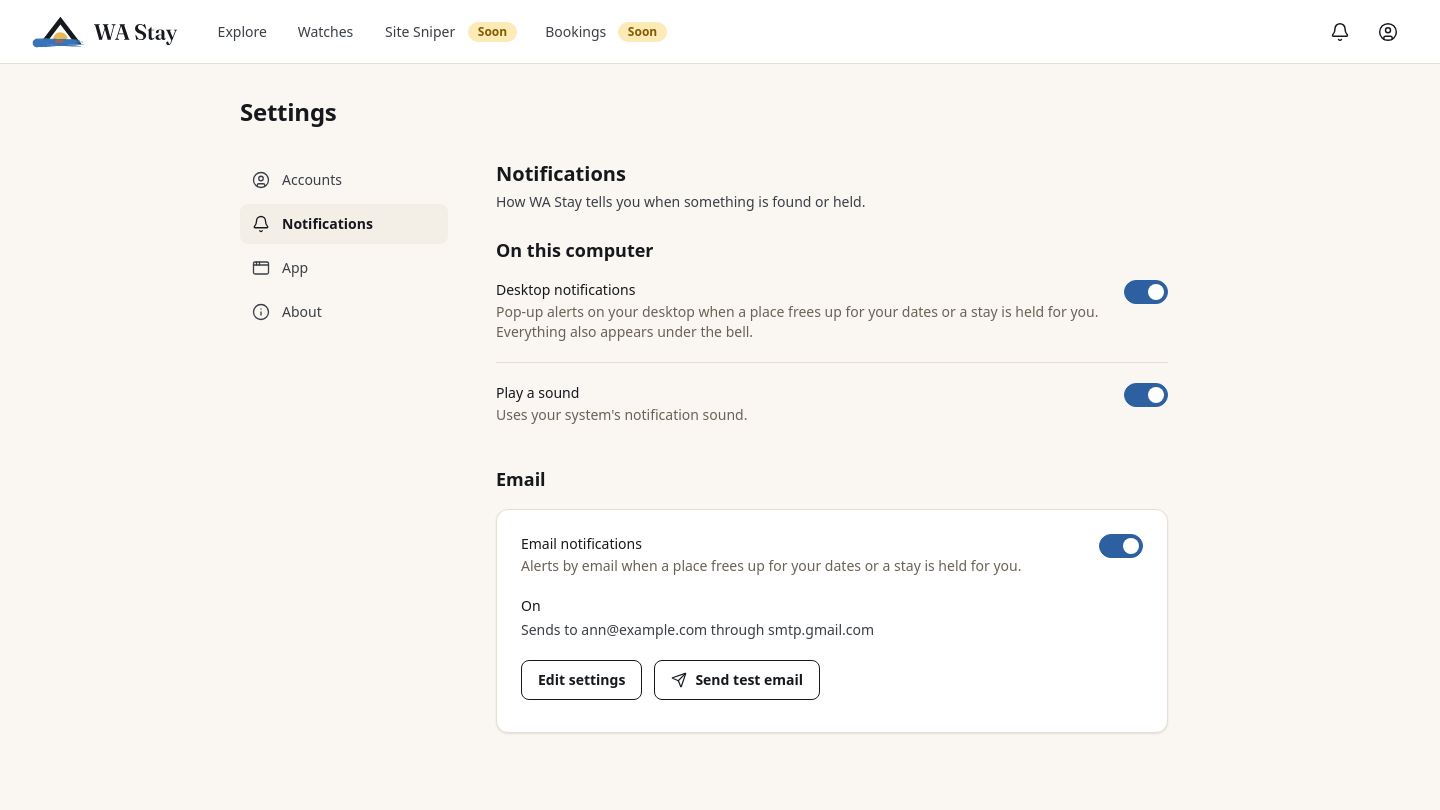
Scenario: EmailNotifierCard: test email and on/off › a server that refuses the connection reads "Couldn't reach the mail server at host:port"
This screenshot has width=1440, height=810.
Check: the text "On" is shown, box [521,596,541,615]
Click the button "Send test email".
click(737, 680)  # box [654,660,820,700]
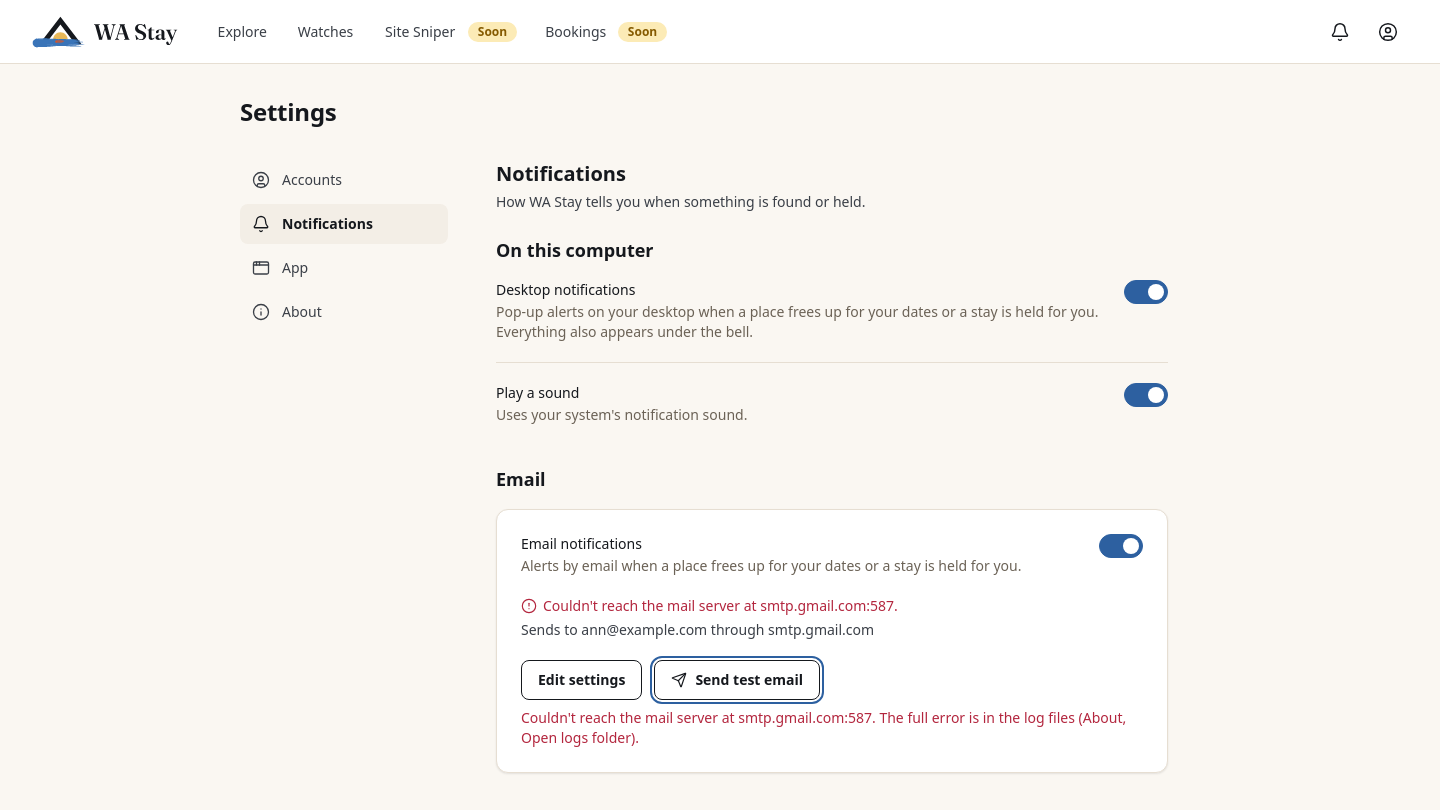
Check: the text "Couldn't reach the mail server at smtp.gmail.com:587." is shown, box [521,596,898,615]
